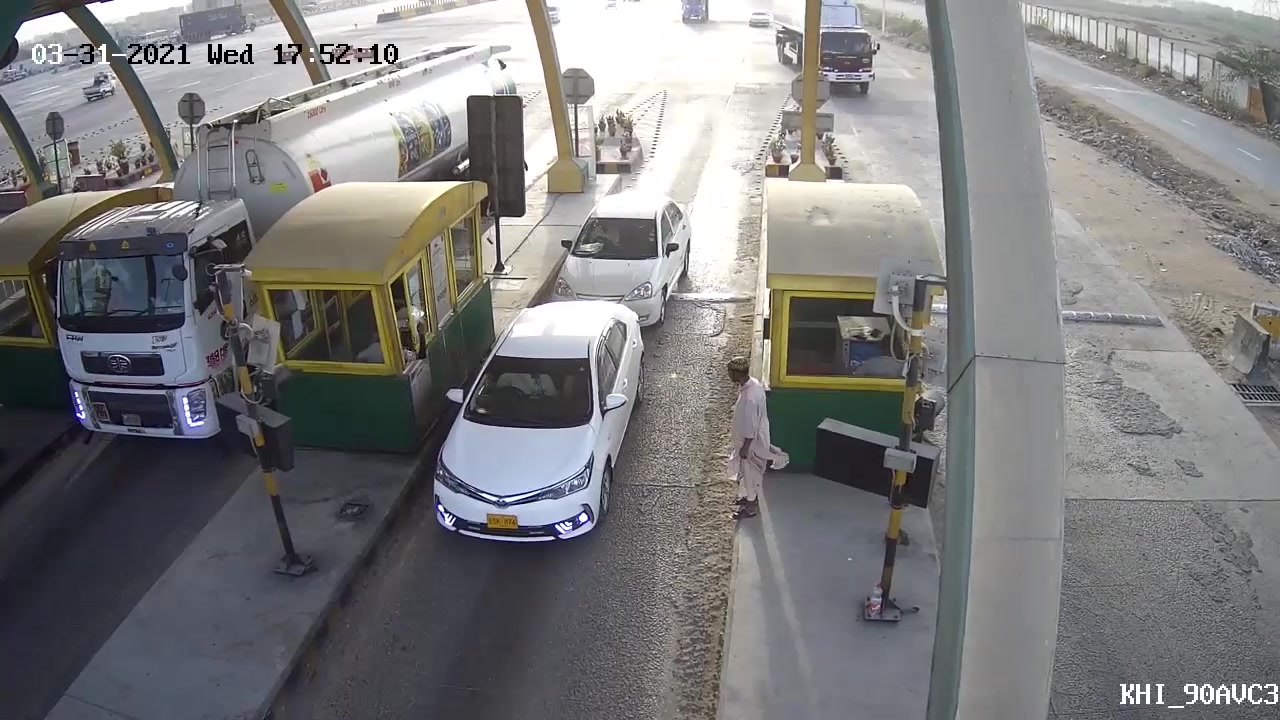F1: (424, 294, 651, 573), (553, 194, 697, 326)
